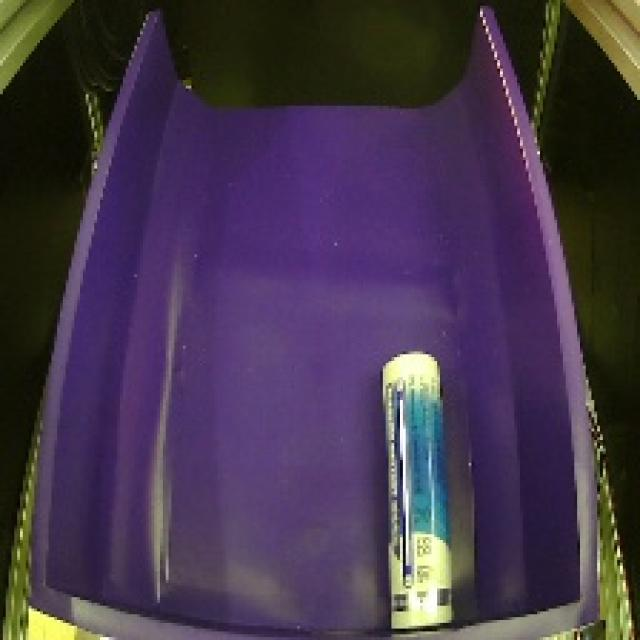battery: (372, 343, 466, 637)
